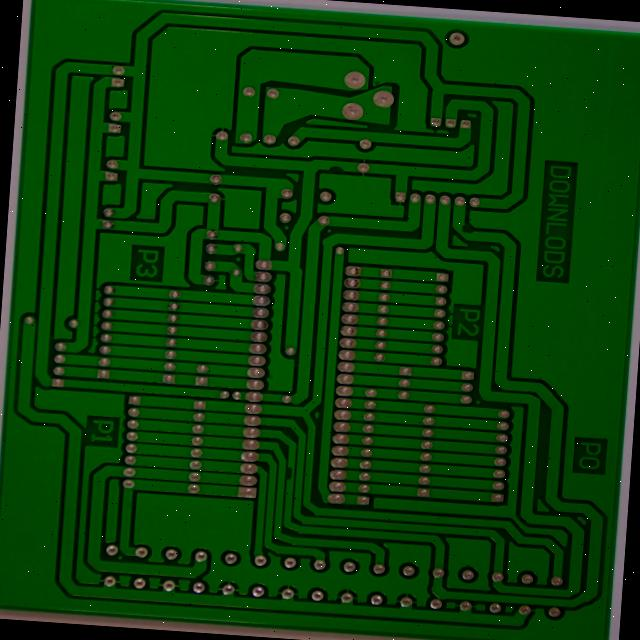mouse_bite: (390, 107, 420, 124), (549, 172, 573, 193), (340, 448, 358, 467)
